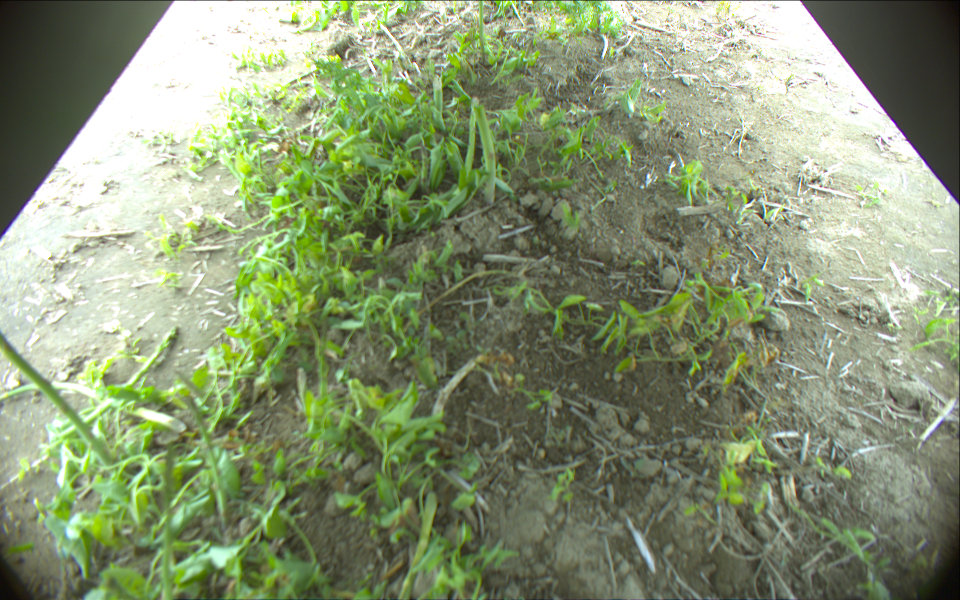aspa: (1, 329, 121, 474), (54, 326, 178, 443), (1, 378, 186, 432), (183, 392, 229, 523), (158, 447, 176, 600), (474, 104, 497, 204), (458, 93, 479, 180), (478, 1, 485, 56)
